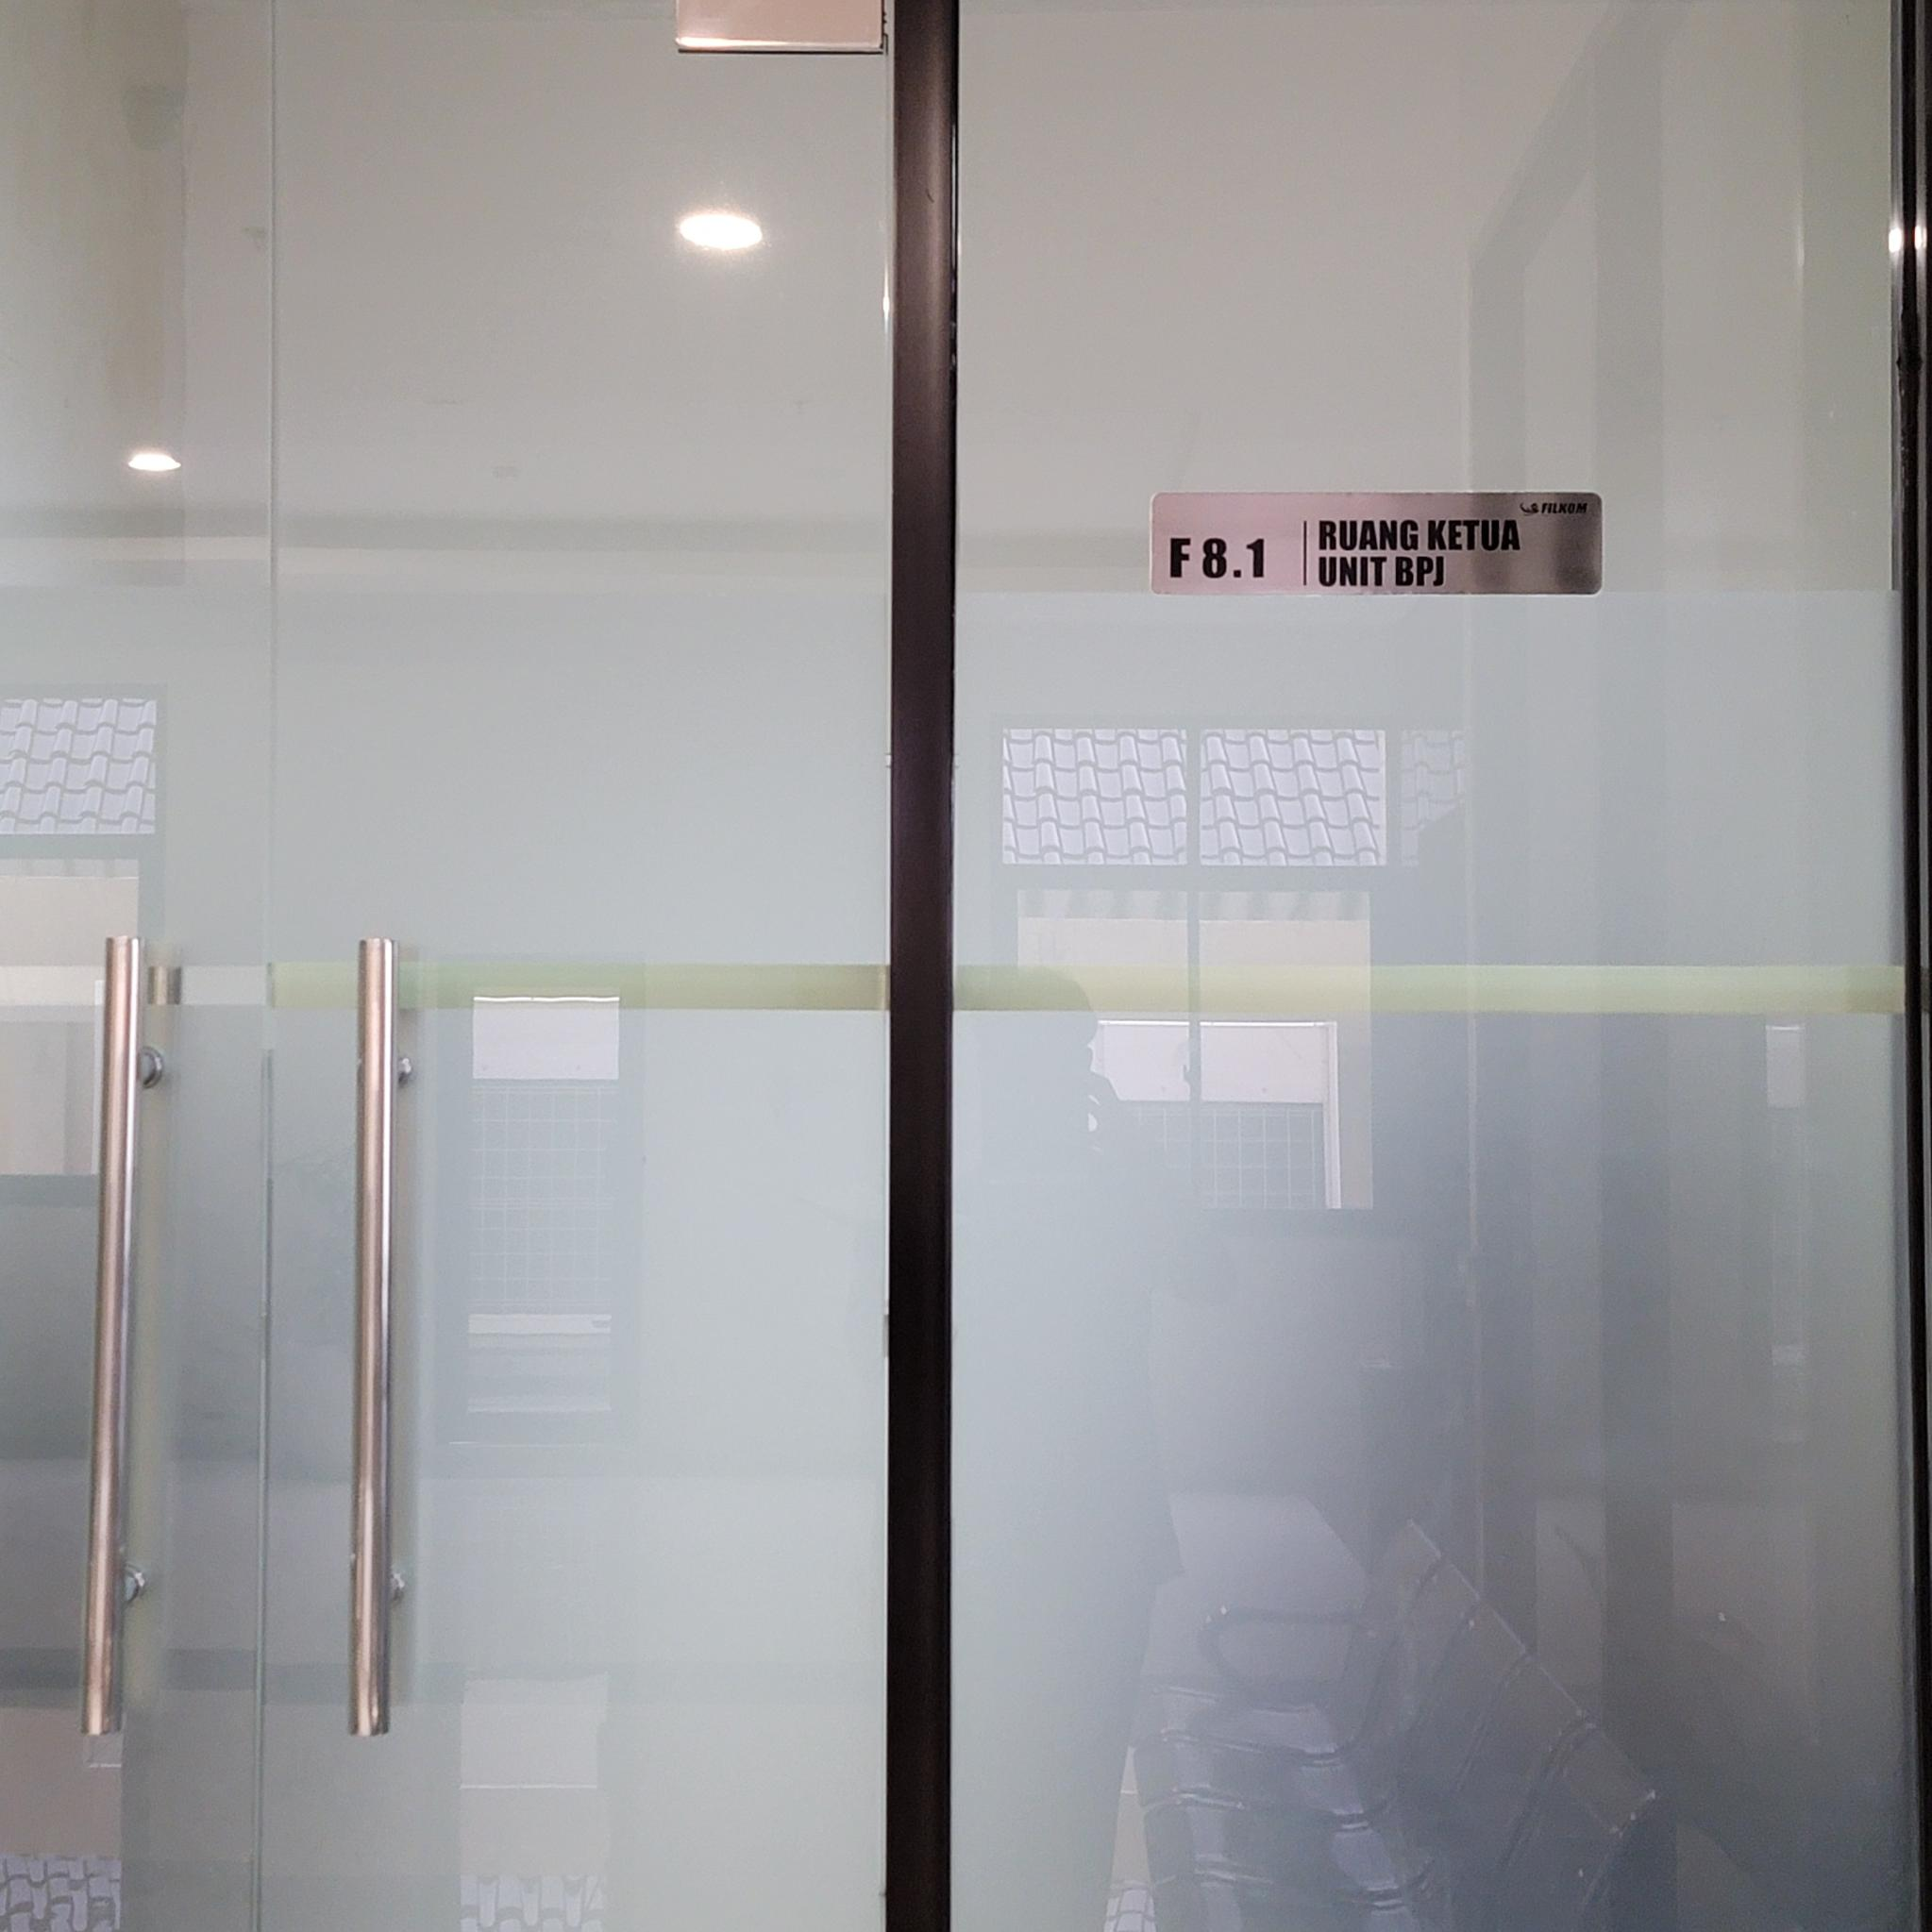plate: (1145, 487, 1606, 603)
